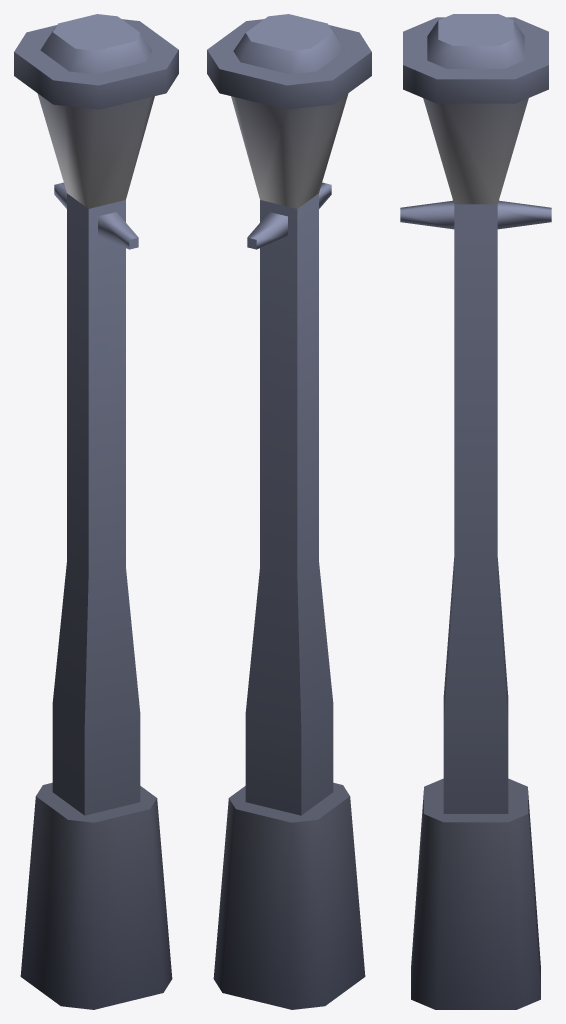
File: post_box.glb
3 renders of one model, left to right at view 1: azimuth 30°, elevation 25°; view 2: azimuth 150°, elevation 25°; view 3: azimuth 270°, elevation 25°, orthographic.
Parts seen in each view (by area): view 1: lantern; view 2: lantern; view 3: lantern.
Boxes of the visible parts, box(x1,y1,x2,y2) form: lantern: box(14, 14, 178, 1009); lantern: box(207, 14, 371, 1009); lantern: box(400, 14, 551, 1009).
Bounding box in the file's own units: 0.2164 × 1.56 × 0.2243.
1 material, 1 textured.
